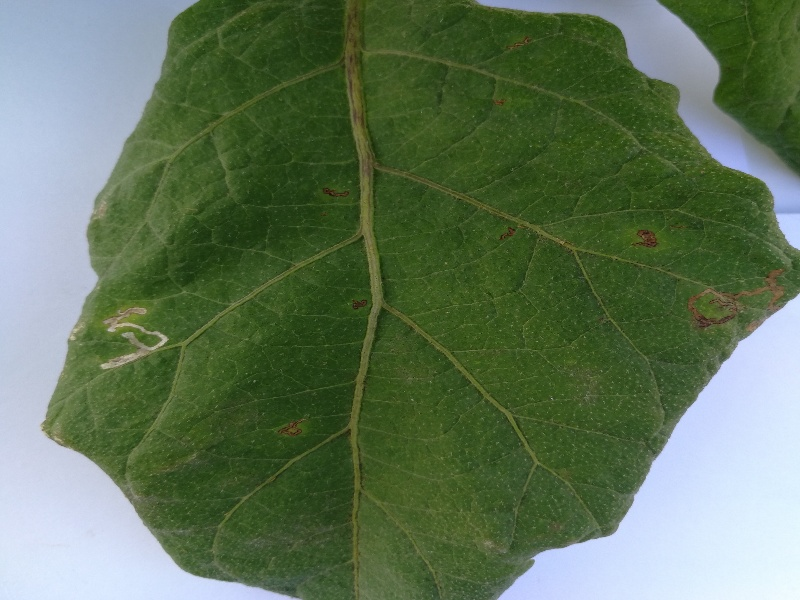leafminer: (688, 263, 792, 360), (91, 301, 175, 373), (271, 409, 315, 448), (628, 225, 665, 255)
